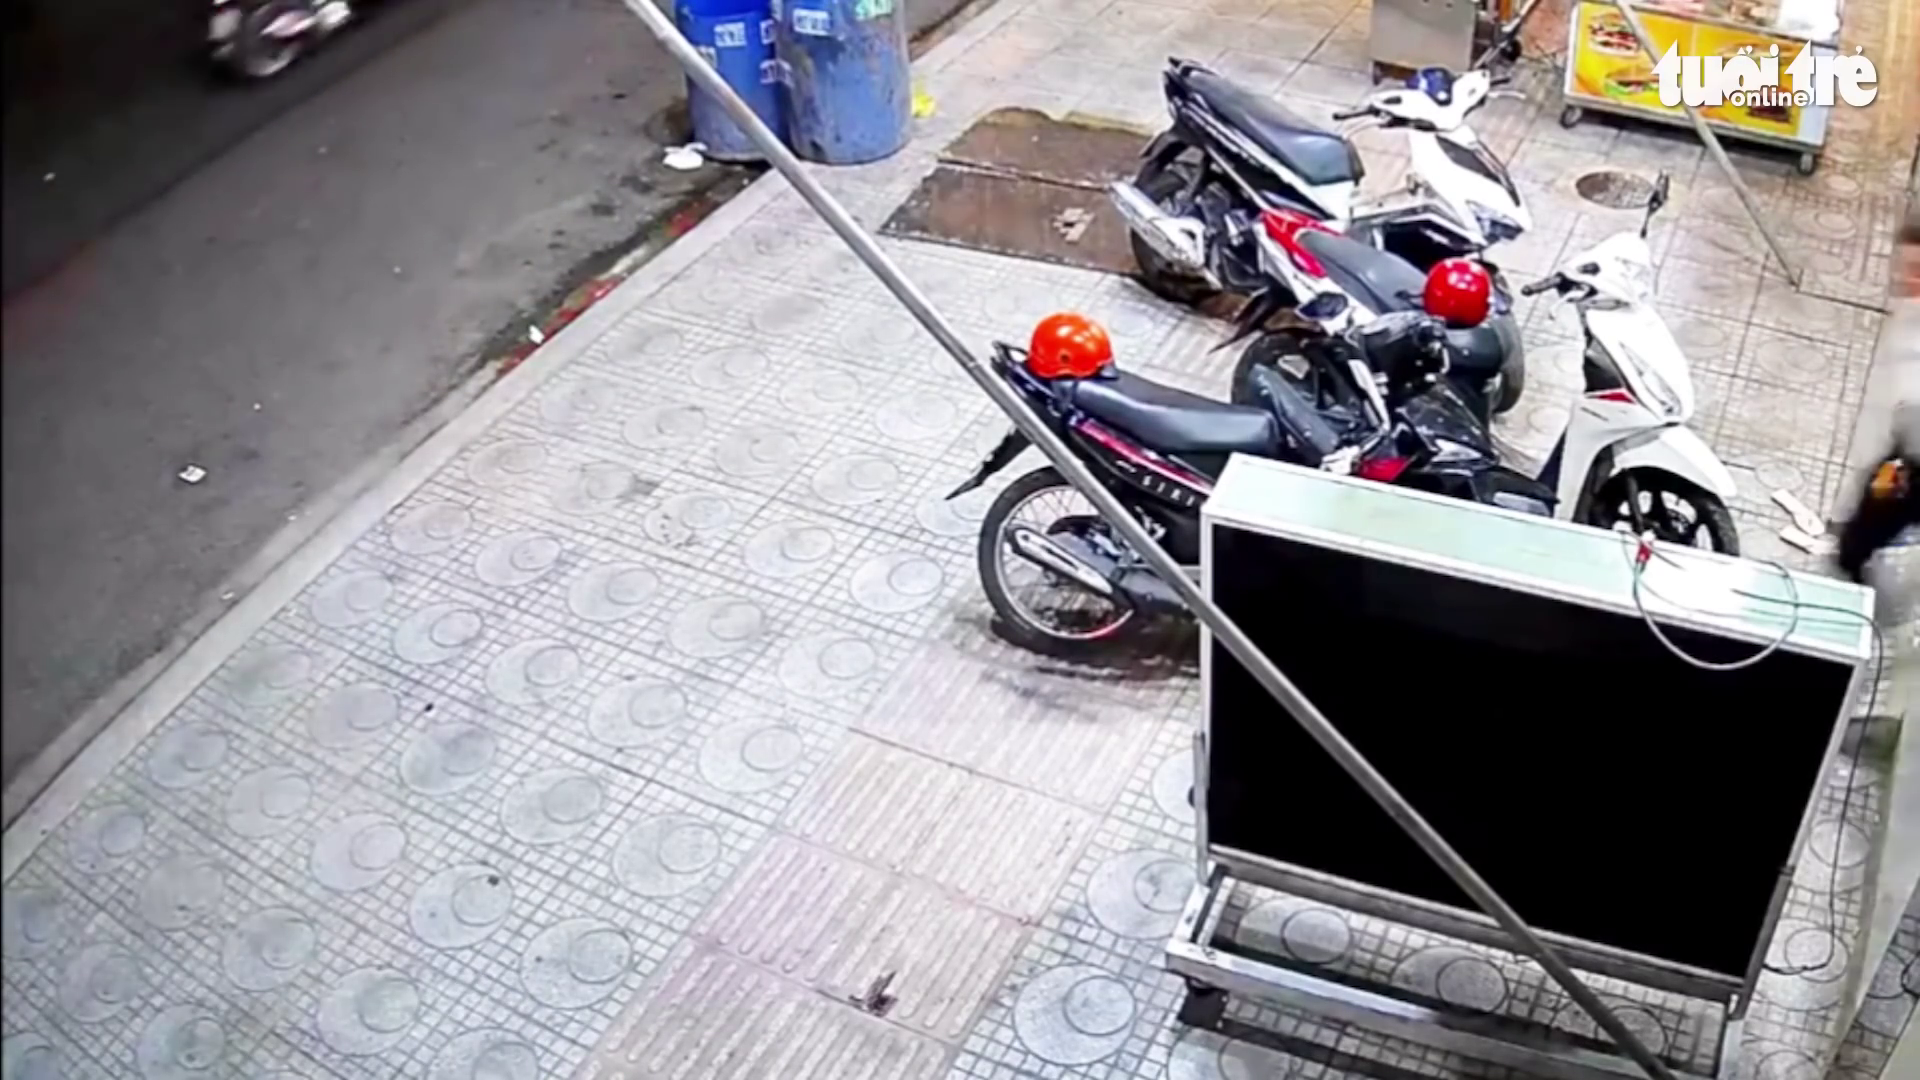Motorcycle: (942, 169, 1743, 661), (943, 251, 1531, 661), (1108, 5, 1540, 320), (1834, 138, 1919, 587), (206, 0, 361, 83)
